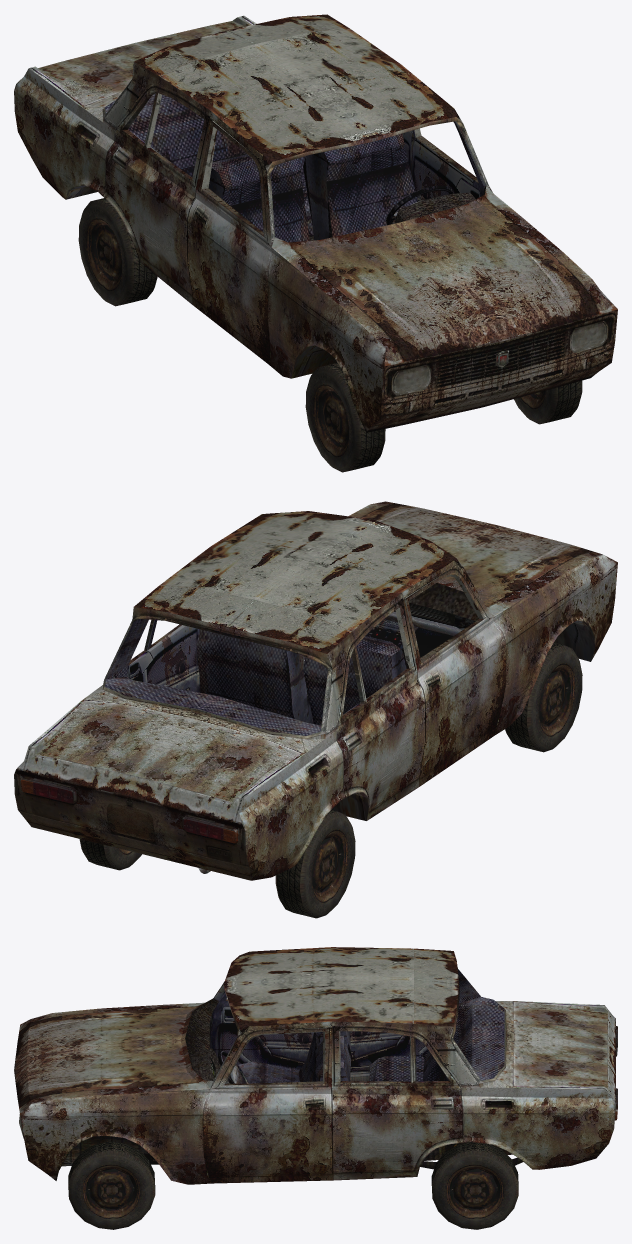
The model's file is car.obj.
The picture shows the model from 3 angles, top to bottom: view 1: azimuth 30°, elevation 25°; view 2: azimuth 150°, elevation 25°; view 3: azimuth 270°, elevation 25°; orthographic projection. The views are drawn at different scales.
Size of the model in its own units: 1.69 by 1.73 by 4.52.
